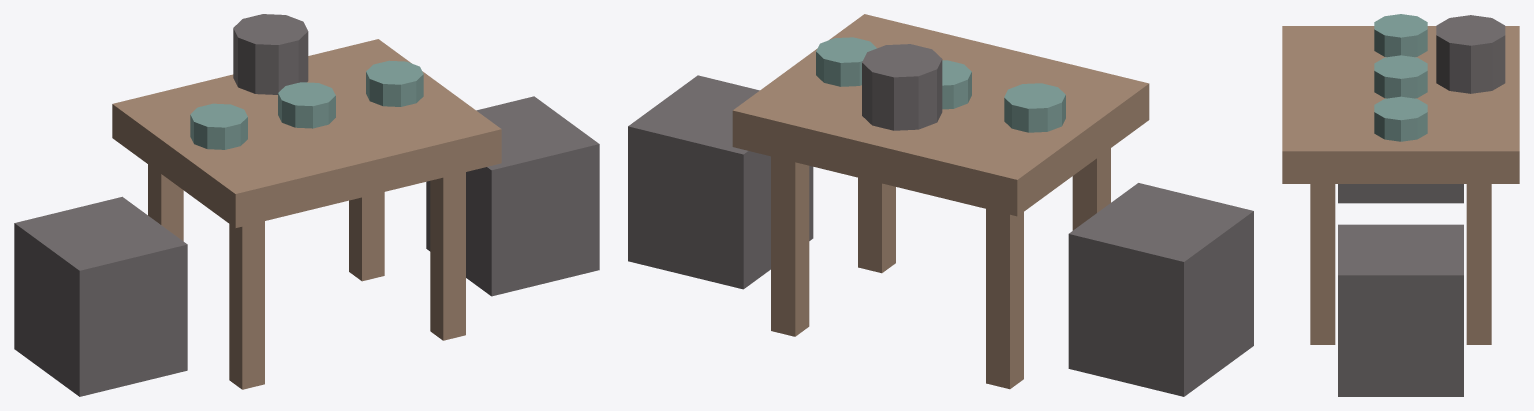
The model's file is tea_table_with_stools.glb.
3 views of the same model, side by side, from view 1: azimuth 30°, elevation 25°; view 2: azimuth 150°, elevation 25°; view 3: azimuth 270°, elevation 25° (orthographic). The views are drawn at different scales.
Parts seen in each view (by area): view 1: box_0, box_5, box_6, box_2, box_4, cylinder_10, box_3, cylinder_7, cylinder_8, cylinder_9, box_1; view 2: box_0, box_5, box_6, box_3, box_1, cylinder_10, box_4, cylinder_7, cylinder_9, box_2, cylinder_8; view 3: box_0, box_6, cylinder_10, box_3, box_4, box_5, cylinder_9, cylinder_8, cylinder_7.
Part boxes in pixels (box(x1,y1,x2,y2)): box_0: box(112, 39, 501, 228); box_5: box(14, 196, 187, 396); box_6: box(426, 96, 599, 296); box_2: box(229, 221, 264, 389); box_4: box(430, 172, 465, 340); cylinder_10: box(233, 14, 308, 94); box_3: box(349, 192, 384, 281); cylinder_7: box(190, 103, 247, 149); cylinder_8: box(278, 82, 335, 128); cylinder_9: box(366, 60, 423, 106); box_1: box(148, 164, 183, 241); box_0: box(732, 14, 1149, 216); box_5: box(1068, 183, 1253, 396); box_6: box(628, 75, 813, 289); box_3: box(771, 156, 809, 336); box_1: box(986, 209, 1023, 389); cylinder_10: box(862, 44, 942, 130); box_4: box(858, 177, 895, 273); cylinder_7: box(1004, 83, 1065, 132); cylinder_9: box(816, 37, 876, 86); box_2: box(1072, 148, 1110, 230); cylinder_8: box(942, 60, 971, 109); box_0: box(1282, 26, 1519, 183); box_6: box(1338, 224, 1463, 396); cylinder_10: box(1436, 15, 1505, 93); box_3: box(1466, 184, 1491, 344); box_4: box(1310, 184, 1335, 344); box_5: box(1338, 184, 1463, 203); cylinder_9: box(1374, 96, 1427, 141); cylinder_8: box(1374, 55, 1427, 98); cylinder_7: box(1374, 14, 1427, 57).
Size of the model in its own units: 2.07 by 1.04 by 0.85.
